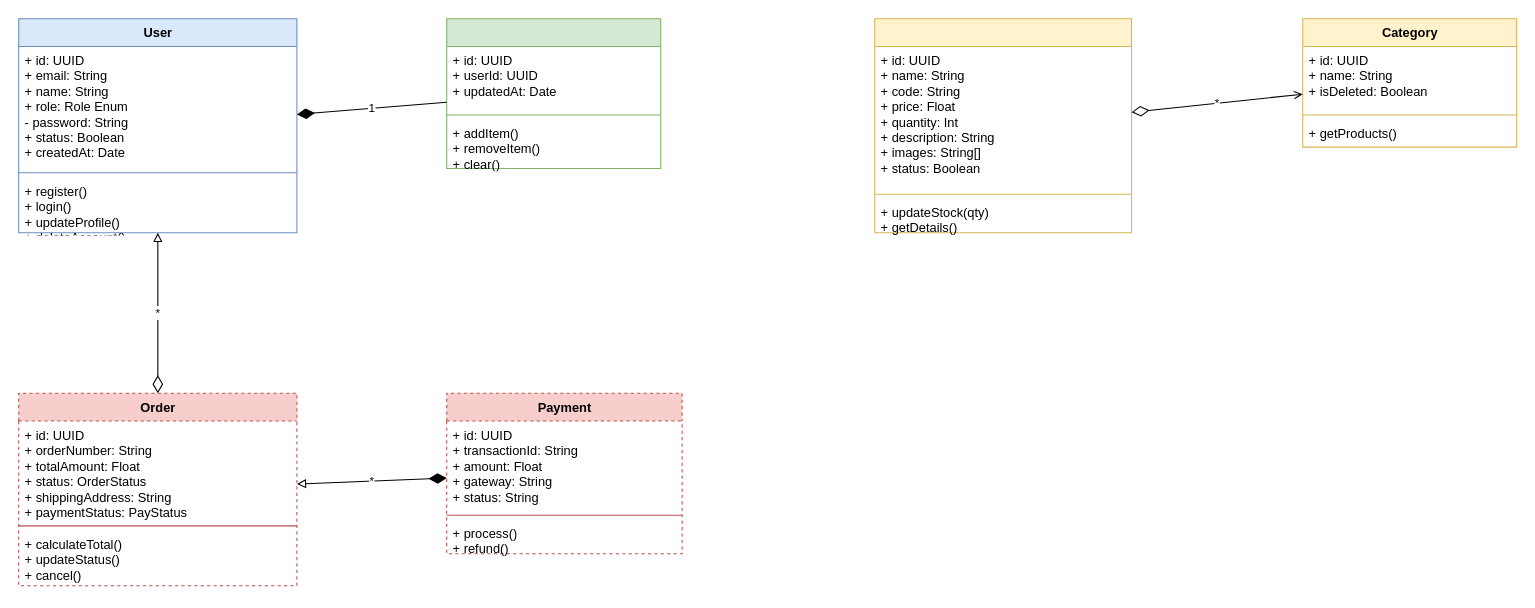
This 1535x608 diagram has some shape labels left out. The shapes that lost their labels are listed below. From the top down, each one's box as (x1, y1, x2, y2) in pixels, then its label:
(446, 18, 661, 169): Cart
(874, 18, 1132, 233): Product
